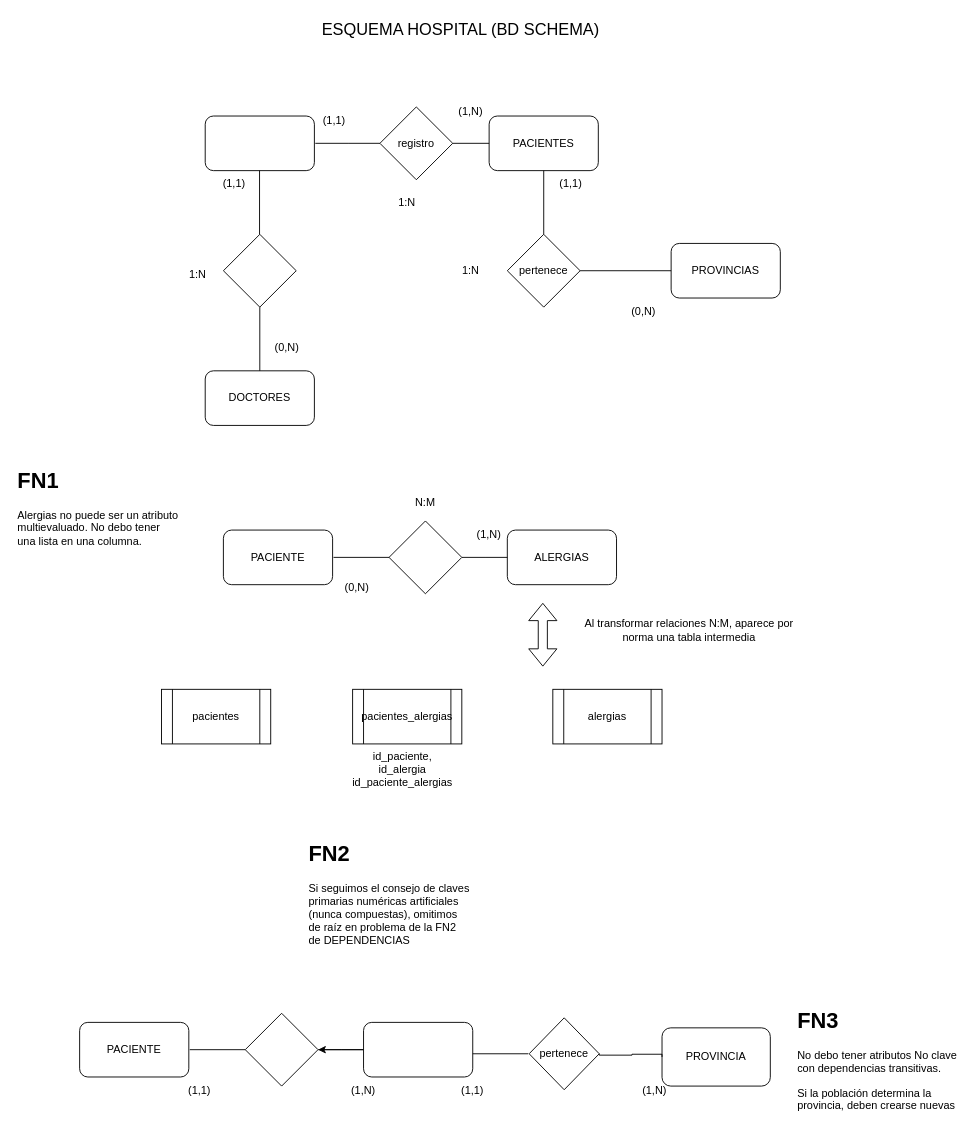
Some shapes in this 975 by 1140 pixel diagram are drawn without their labels. Here are the shapes that lost their labels. From the top down, the centre of each, then its label:
(259,143): ADMISIONES
(259,270): asginar
(425,557): padece
(281,1049): pertecene
(418,1049): POBLACIONES
